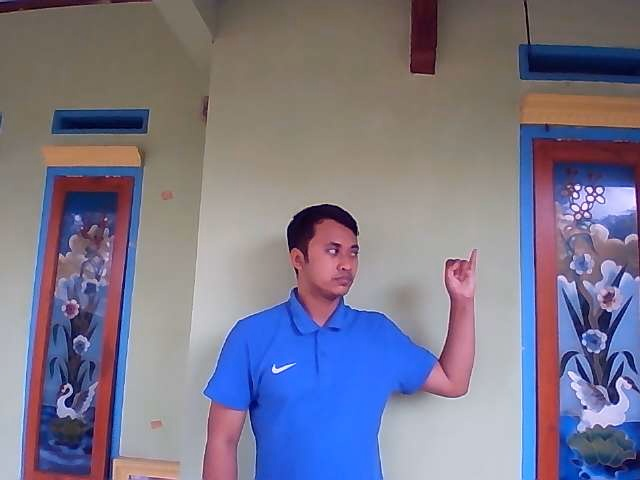I: (444, 248, 478, 297)
